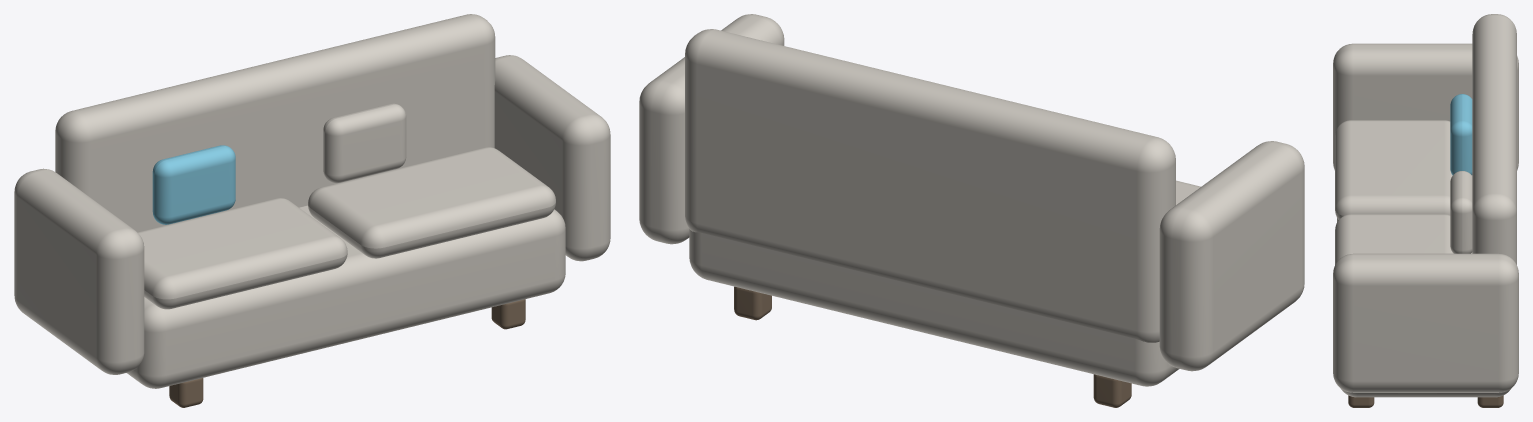
Rendered from 现代圆角沙发.fbx.
The picture shows the model from 3 angles, left to right: view 1: azimuth 30°, elevation 25°; view 2: azimuth 150°, elevation 25°; view 3: azimuth 270°, elevation 25°; orthographic projection. The views are drawn at different scales.
Visible parts, largest first — view 1: 现代圆角沙发_靠背, 现代圆角沙发_底座, 现代圆角沙发_左扶手, 现代圆角沙发_坐垫分块.001, 现代圆角沙发_坐垫分块, 现代圆角沙发_右扶手, 现代圆角沙发_米白抱枕, 现代圆角沙发_海蓝抱枕, 现代圆角沙发_短脚.002, 现代圆角沙发_短脚; view 2: 现代圆角沙发_靠背, 现代圆角沙发_左扶手, 现代圆角沙发_底座, 现代圆角沙发_右扶手, 现代圆角沙发_短脚.001, 现代圆角沙发_短脚.003; view 3: 现代圆角沙发_右扶手, 现代圆角沙发_坐垫分块, 现代圆角沙发_靠背, 现代圆角沙发_左扶手, 现代圆角沙发_坐垫分块.001, 现代圆角沙发_米白抱枕, 现代圆角沙发_海蓝抱枕, 现代圆角沙发_底座, 现代圆角沙发_短脚.002, 现代圆角沙发_短脚.003.
Part boxes in pixels (x1,y1,x2,y2): 现代圆角沙发_靠背: (55,14,495,232); 现代圆角沙发_底座: (127,205,565,388); 现代圆角沙发_左扶手: (14,168,144,374); 现代圆角沙发_坐垫分块.001: (308,147,555,258); 现代圆角沙发_坐垫分块: (137,198,347,309); 现代圆角沙发_右扶手: (494,55,610,261); 现代圆角沙发_米白抱枕: (323,103,406,183); 现代圆角沙发_海蓝抱枕: (152,145,235,224); 现代圆角沙发_短脚.002: (491,299,525,329); 现代圆角沙发_短脚: (169,378,203,407); 现代圆角沙发_靠背: (685,29,1175,342); 现代圆角沙发_左扶手: (1159,141,1304,371); 现代圆角沙发_底座: (689,229,1179,386); 现代圆角沙发_右扶手: (639,14,784,244); 现代圆角沙发_短脚.001: (1093,374,1131,407); 现代圆角沙发_短脚.003: (734,286,771,320); 现代圆角沙发_右扶手: (1333,253,1518,392); 现代圆角沙发_坐垫分块: (1335,120,1452,219); 现代圆角沙发_靠背: (1472,14,1516,264); 现代圆角沙发_左扶手: (1333,43,1518,170); 现代圆角沙发_坐垫分块.001: (1335,214,1453,264); 现代圆角沙发_米白抱枕: (1450,171,1472,253); 现代圆角沙发_海蓝抱枕: (1450,94,1472,175); 现代圆角沙发_底座: (1337,175,1510,397); 现代圆角沙发_短脚.002: (1348,395,1374,407); 现代圆角沙发_短脚.003: (1477,395,1503,407).
Bounding box in the file's own units: 270 × 124 × 92.
